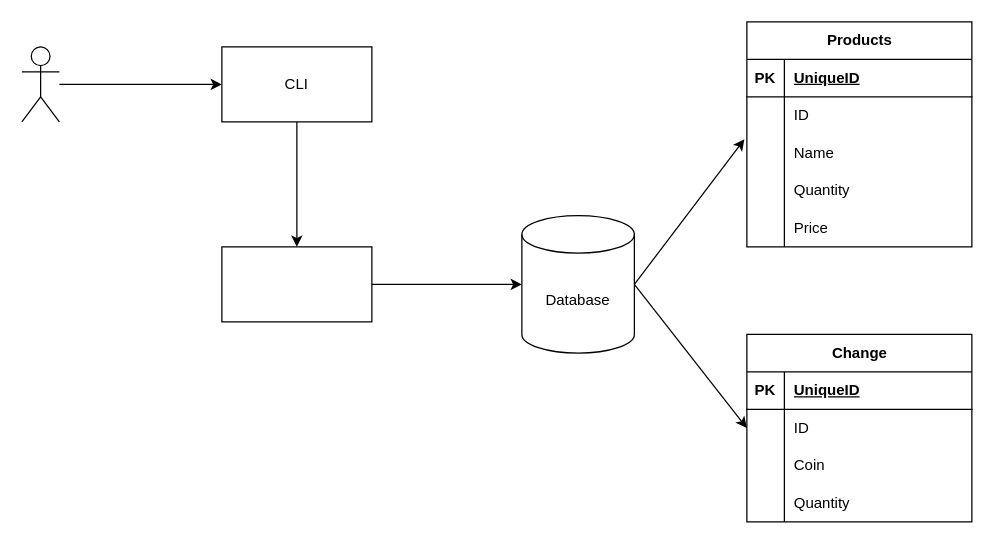
Some shapes in this 994 by 544 pixel diagram are drawn without their labels. Each missing label, with the centre of its shape:
REST API: the point at 296,284
User: the point at 40,84
